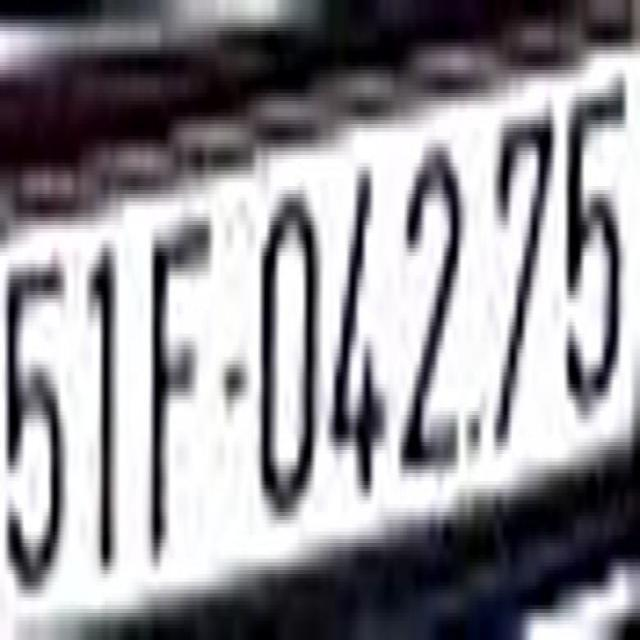0: (253, 159, 316, 516)
1: (89, 214, 120, 566)
2: (398, 155, 461, 469), (500, 100, 550, 470)
4: (329, 128, 383, 508)
5: (560, 50, 630, 419), (3, 236, 69, 602)
F: (146, 205, 213, 570)
